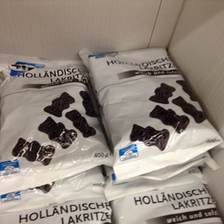candy: (79, 46, 223, 179), (1, 54, 102, 199)
